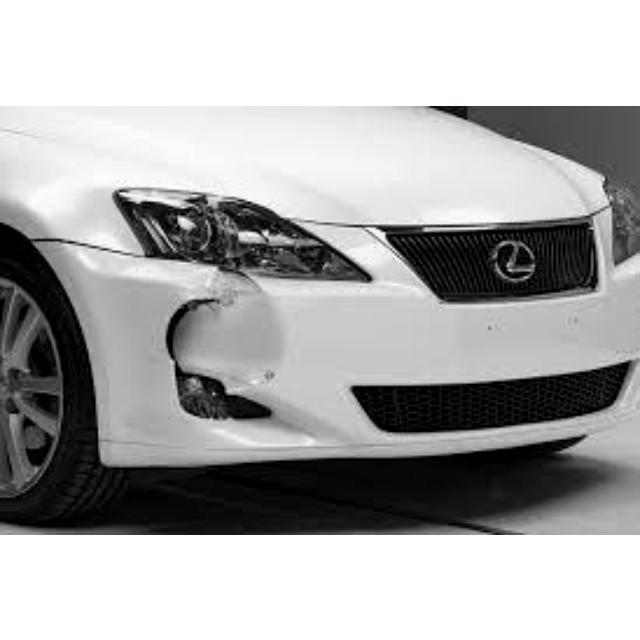Headlight-damage: (103, 161, 357, 317)
front-bumper-dent: (68, 234, 320, 451)
